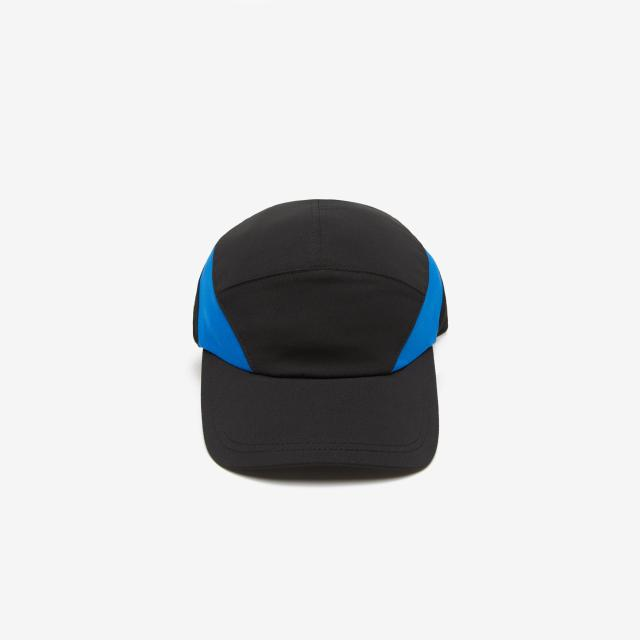Cap: (188, 172, 502, 514)
